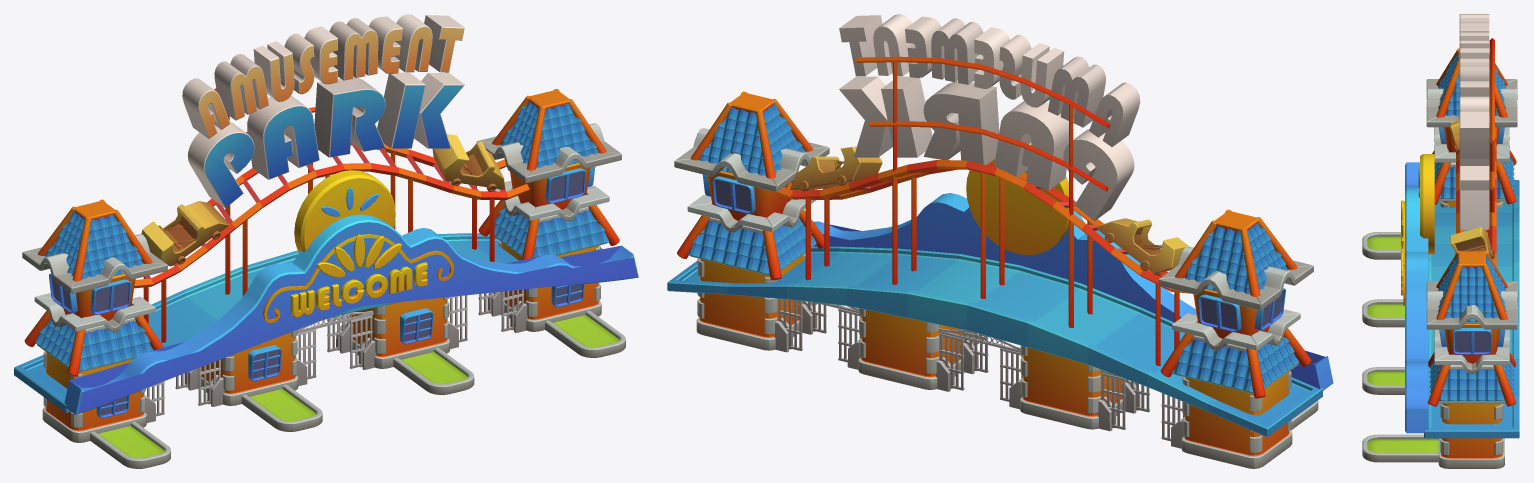
File: lpb_entrance.fbx
3 views of the same model, side by side, from view 1: azimuth 30°, elevation 25°; view 2: azimuth 150°, elevation 25°; view 3: azimuth 270°, elevation 25° (orthographic). The views are drawn at different scales.
Visible parts, largest first — view 1: entrance; view 2: entrance; view 3: entrance.
Part boxes in pixels (left/top/right/bottom): entrance: left=14, top=14, right=638, bottom=468; entrance: left=667, top=14, right=1333, bottom=468; entrance: left=1362, top=14, right=1519, bottom=468.
Size of the model in its own units: 3333 by 1880 by 882.
